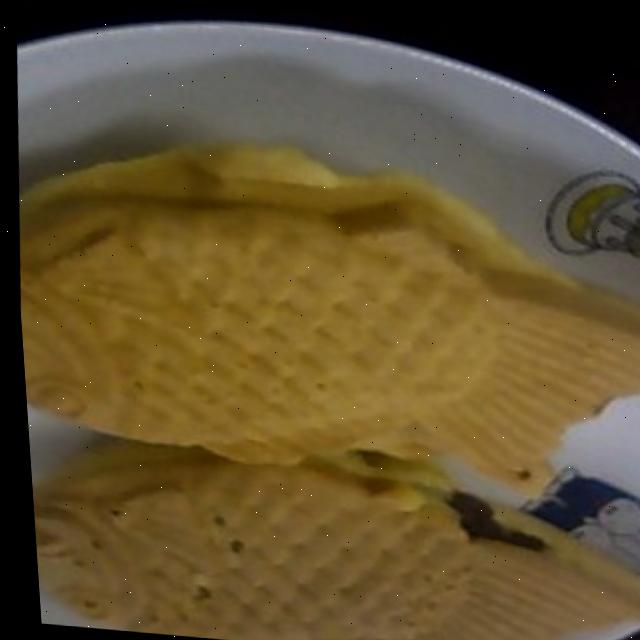熟制海鲜: (4, 83, 640, 517), (21, 408, 640, 640)
